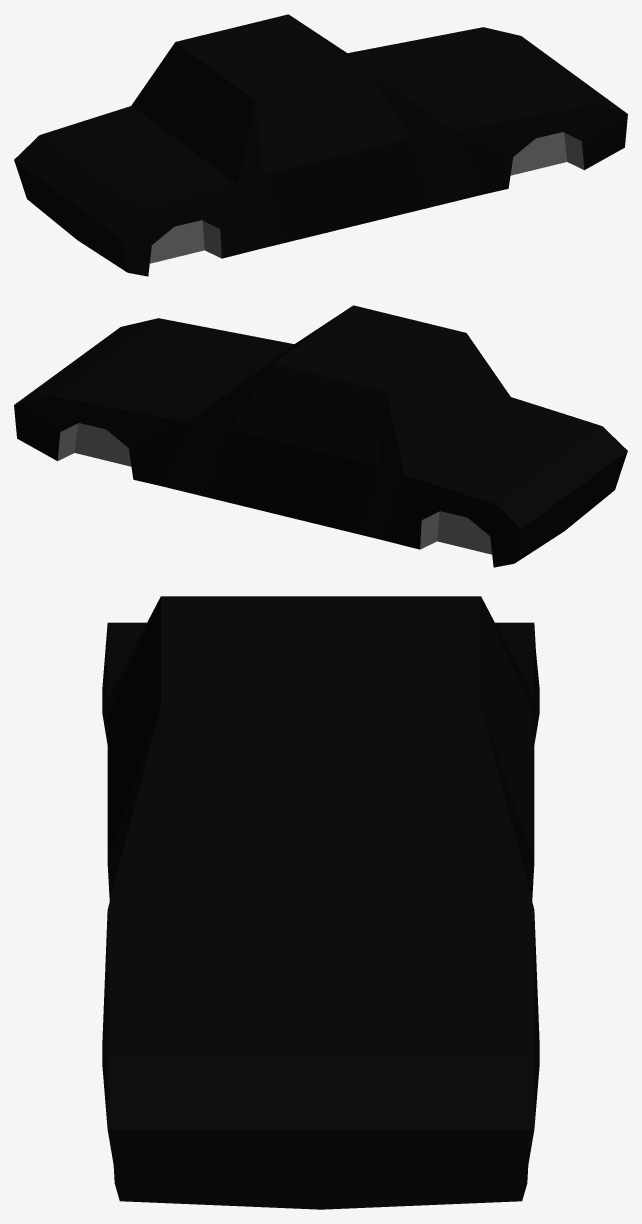
The model's file is SM_car.fbx.
3 views of the same model, one above another, from view 1: azimuth 30°, elevation 25°; view 2: azimuth 150°, elevation 25°; view 3: azimuth 270°, elevation 25° (orthographic). The views are drawn at different scales.
Parts seen in each view (by area): view 1: Car; view 2: Car; view 3: Car.
Boxes of the visible parts, left/top/right/bottom form: Car: left=14, top=14, right=627, bottom=276; Car: left=14, top=305, right=627, bottom=567; Car: left=102, top=596, right=539, bottom=1209.
Size of the model in its own units: 4.42 by 1.2 by 1.65.
